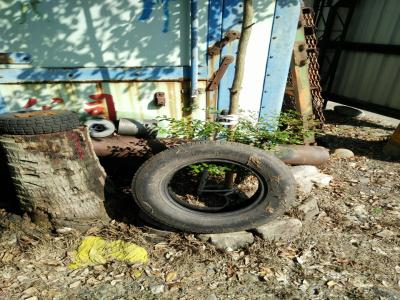tire: (122, 134, 297, 236), (1, 108, 82, 136)
